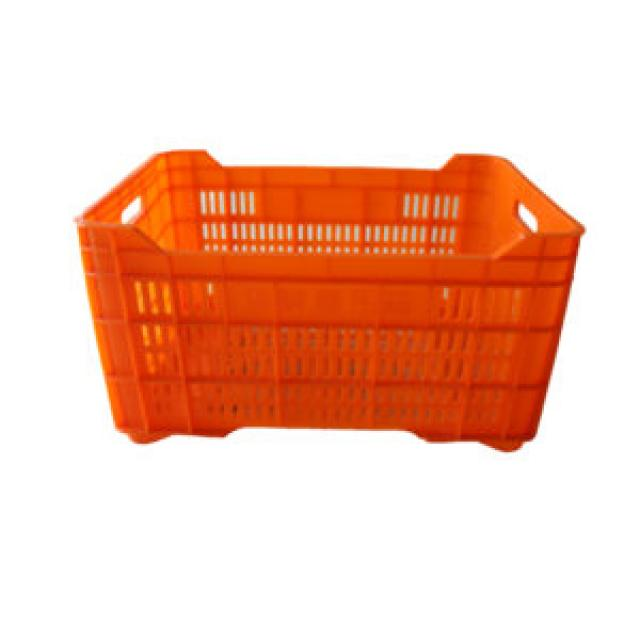basket: (69, 138, 589, 458)
